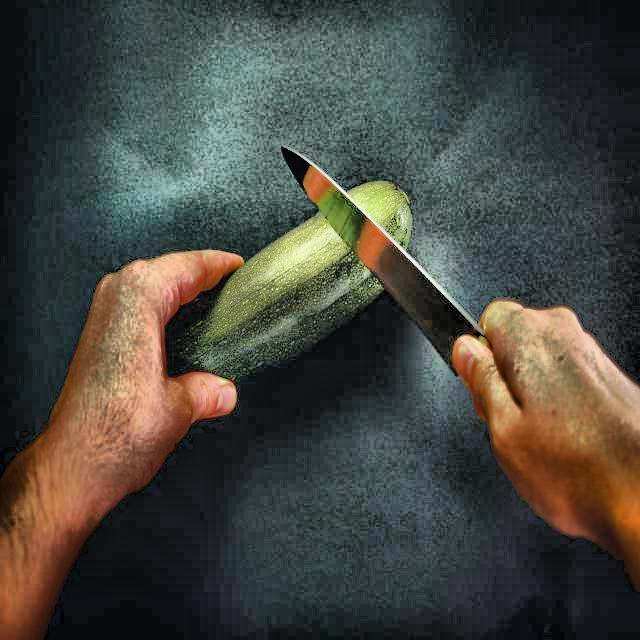knife: (281, 129, 517, 398)
